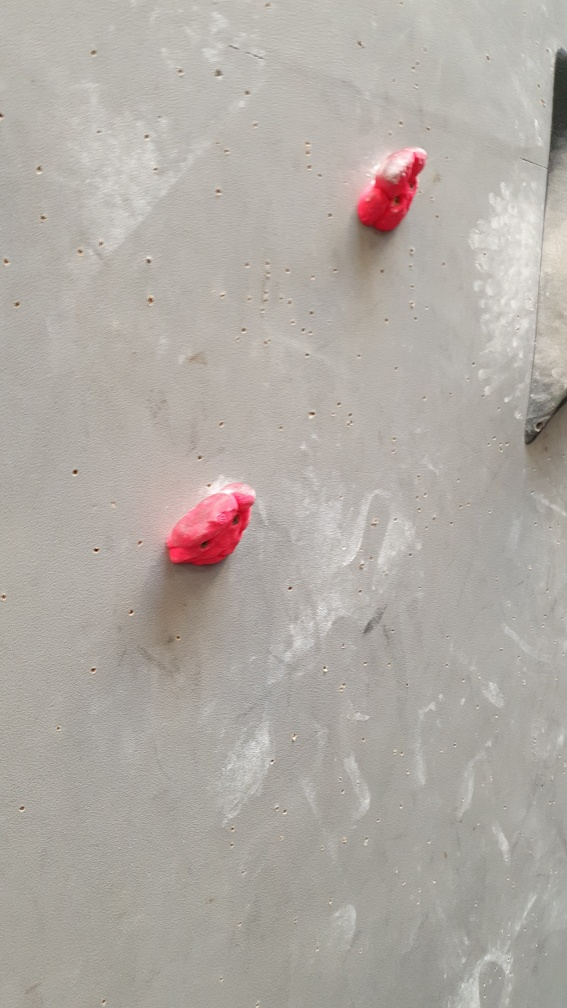Jug: (163, 477, 257, 572), (352, 144, 430, 237)
